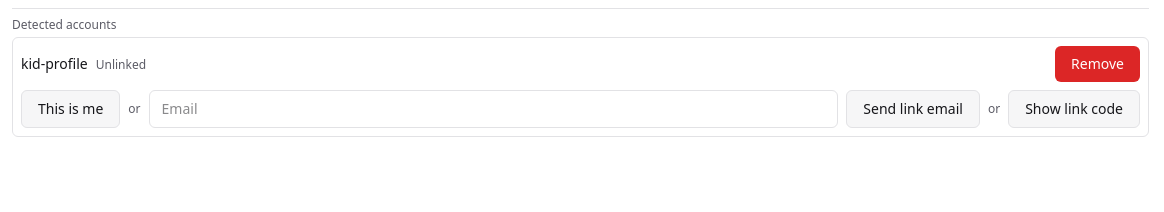
Scenario: TokenWebhookLinks › sends a link email via "Send link email" and shows it was emailed
Type "someone@example.com" into the field with placeholder "Email" at (494, 109), box [149,90,838,128]
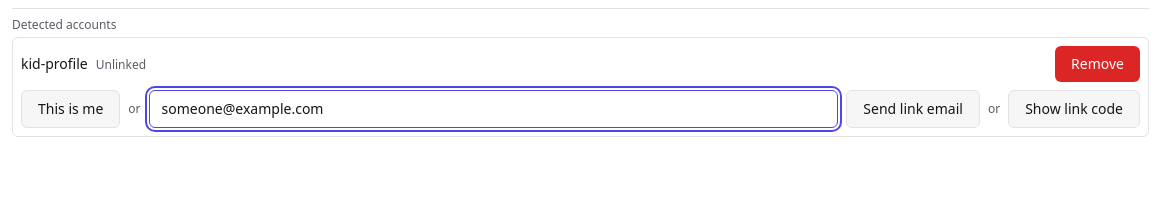
Click the button "Send link email" at (913, 109), box [846,90,980,128]
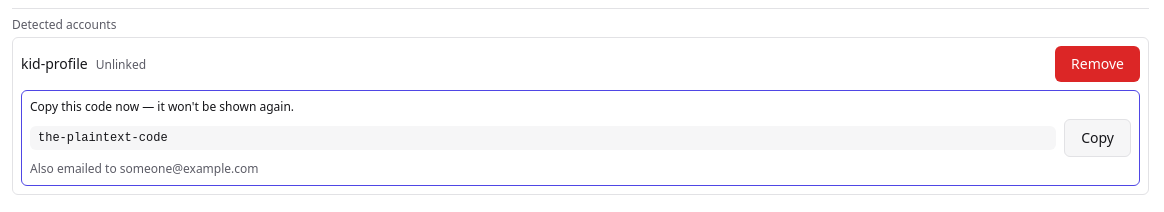
Result: the text "the-plaintext-code" is shown at [30,126,1056,150]
Result: the text "Also emailed to someone@example.com" is shown at [30,160,258,177]
